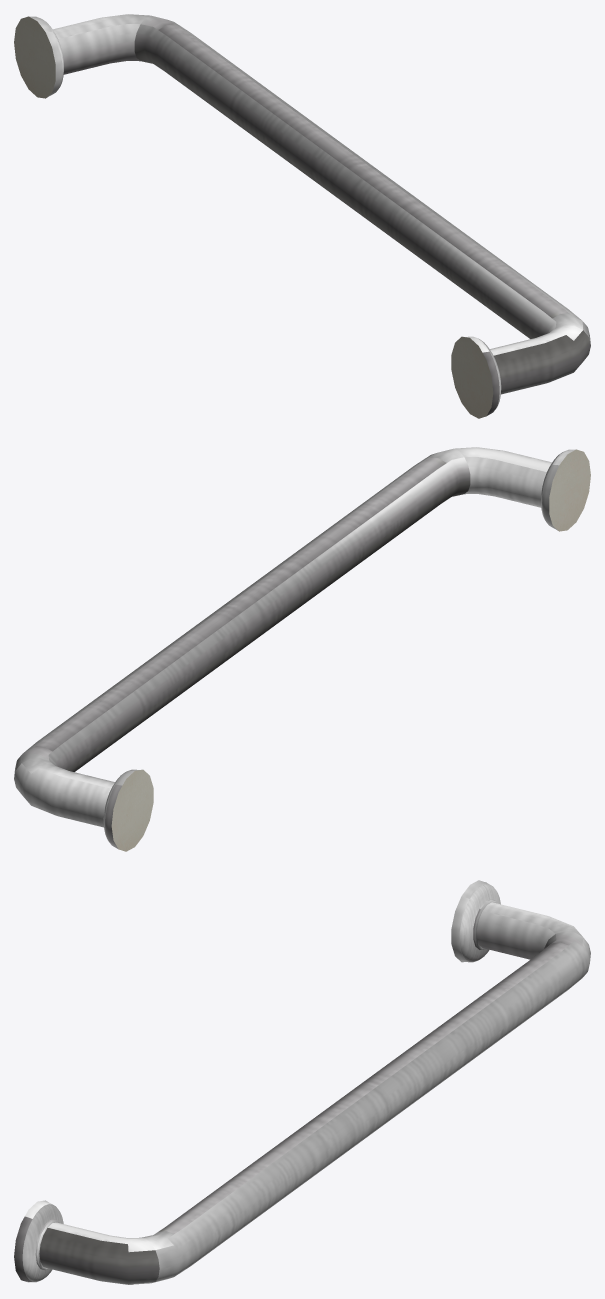
File: Hanger.fbx
3 renders of one model, top to bottom at view 1: azimuth 30°, elevation 25°; view 2: azimuth 150°, elevation 25°; view 3: azimuth 330°, elevation 25°, orthographic.
Visible parts, largest first — view 1: pCylinder1; view 2: pCylinder1; view 3: pCylinder1.
Part boxes in pixels (bbox=[...]): pCylinder1: bbox=[14, 14, 590, 418]; pCylinder1: bbox=[14, 447, 590, 851]; pCylinder1: bbox=[14, 880, 590, 1284].
Size of the model in its own units: 1.63 by 0.8919 by 10.17.
1 material, 1 textured.
